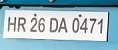0: (72, 17, 80, 34)
1: (97, 18, 104, 35)
2: (29, 16, 38, 33)
4: (80, 18, 88, 33)
6: (38, 17, 47, 33)
7: (88, 17, 97, 34)
A: (58, 16, 69, 33)
D: (49, 17, 59, 33)
H: (7, 16, 17, 32)
R: (17, 16, 27, 33)
